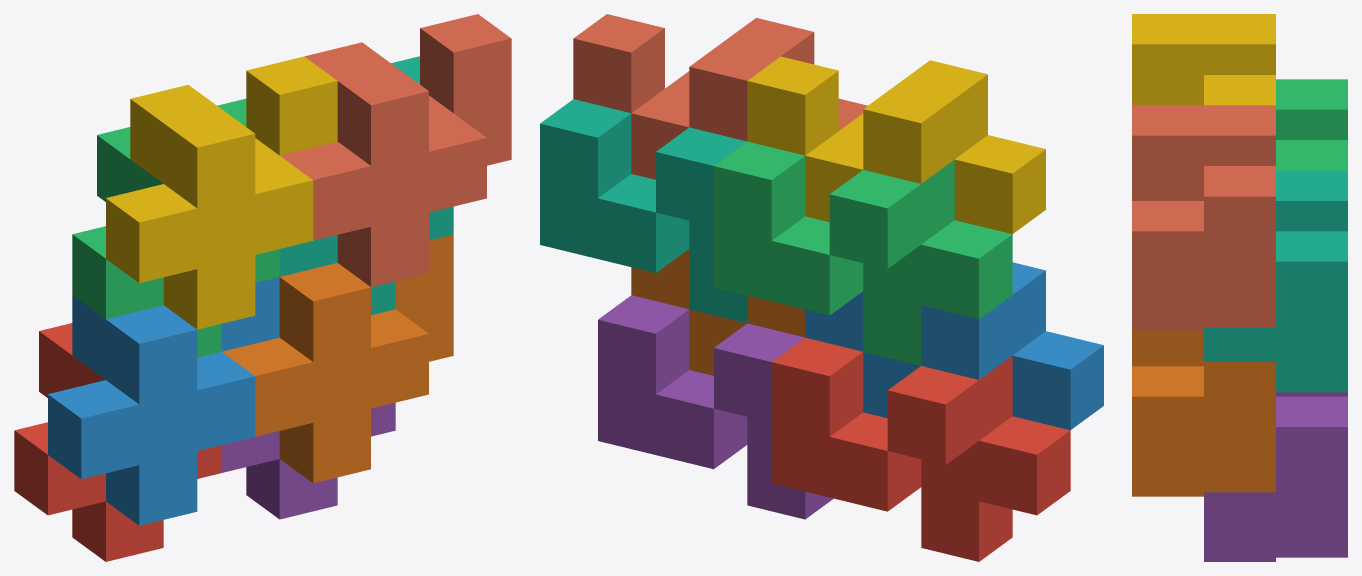
File: tiling.obj
The picture shows the model from 3 angles, left to right: view 1: azimuth 30°, elevation 25°; view 2: azimuth 150°, elevation 25°; view 3: azimuth 270°, elevation 25°; orthographic projection. The views are drawn at different scales.
Visible parts, largest first — view 1: copy_1_domain_4, copy_1_domain_8, copy_1_domain_2, copy_1_domain_6, copy_1_domain_1, copy_1_domain_3, copy_1_domain_5, copy_1_domain_7; view 2: copy_1_domain_1, copy_1_domain_3, copy_1_domain_4, copy_1_domain_5, copy_1_domain_7, copy_1_domain_2, copy_1_domain_8, copy_1_domain_6; view 3: copy_1_domain_8, copy_1_domain_6, copy_1_domain_7, copy_1_domain_5, copy_1_domain_4, copy_1_domain_3.
Part boxes in pixels (x1,y1,x2,y2): copy_1_domain_4: (106, 56, 337, 329); copy_1_domain_8: (280, 14, 511, 287); copy_1_domain_2: (48, 277, 279, 525); copy_1_domain_6: (222, 234, 453, 483); copy_1_domain_1: (14, 323, 221, 561); copy_1_domain_3: (72, 98, 279, 357); copy_1_domain_5: (221, 402, 395, 519); copy_1_domain_7: (279, 56, 453, 315); copy_1_domain_1: (771, 337, 1070, 561); copy_1_domain_3: (714, 141, 1012, 365); copy_1_domain_4: (747, 56, 1045, 234); copy_1_domain_5: (598, 295, 833, 519); copy_1_domain_7: (540, 99, 747, 323); copy_1_domain_2: (805, 262, 1103, 430); copy_1_domain_8: (573, 14, 867, 179); copy_1_domain_6: (631, 249, 805, 375); copy_1_domain_8: (1132, 105, 1275, 331); copy_1_domain_6: (1132, 331, 1275, 496); copy_1_domain_7: (1204, 170, 1347, 392); copy_1_domain_5: (1204, 392, 1347, 561); copy_1_domain_4: (1132, 14, 1275, 105); copy_1_domain_3: (1276, 79, 1347, 170).
Size of the model in its own units: 8 by 7 by 3.
